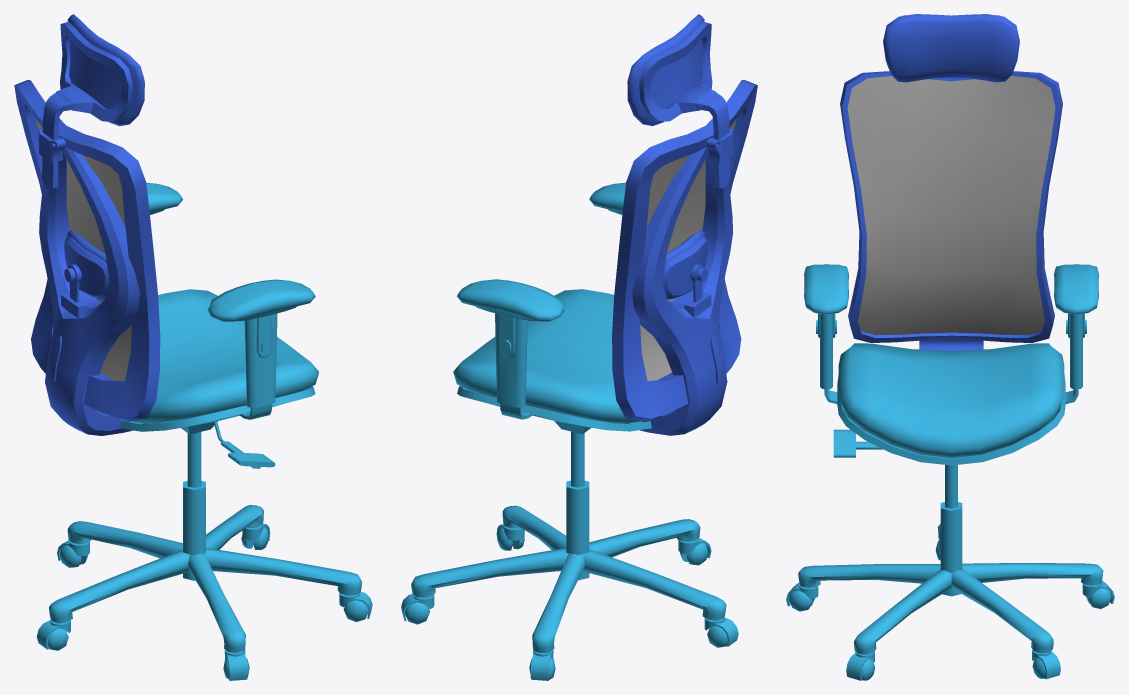
Rendered from bureau one.fbx.
The picture shows the model from 3 angles, left to right: view 1: azimuth 30°, elevation 25°; view 2: azimuth 150°, elevation 25°; view 3: azimuth 270°, elevation 25°; orthographic projection. The views are drawn at different scales.
Parts seen in each view (by area): view 1: 1_Low1; view 2: 1_Low1; view 3: 1_Low1.
Part boxes in pixels (x1,y1,x2,y2): 1_Low1: (14, 14, 372, 680); 1_Low1: (401, 14, 757, 680); 1_Low1: (786, 14, 1114, 680).
Size of the model in its own units: 163 by 330 by 173.
